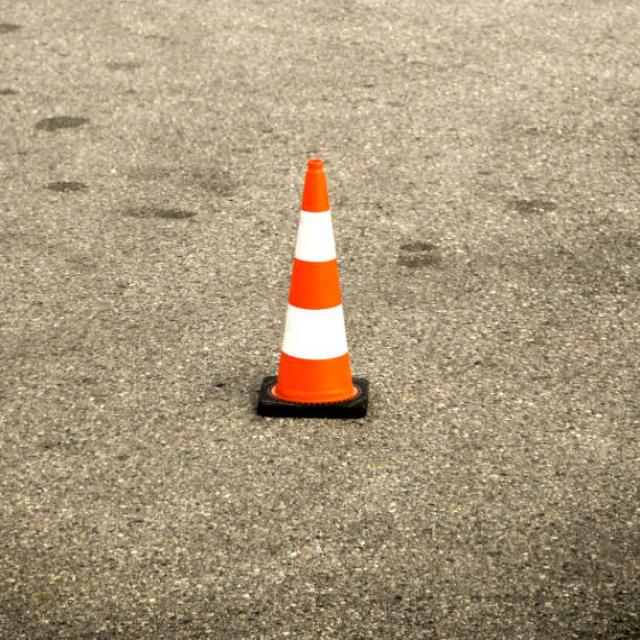Traffic Cone: (200, 114, 401, 457)
